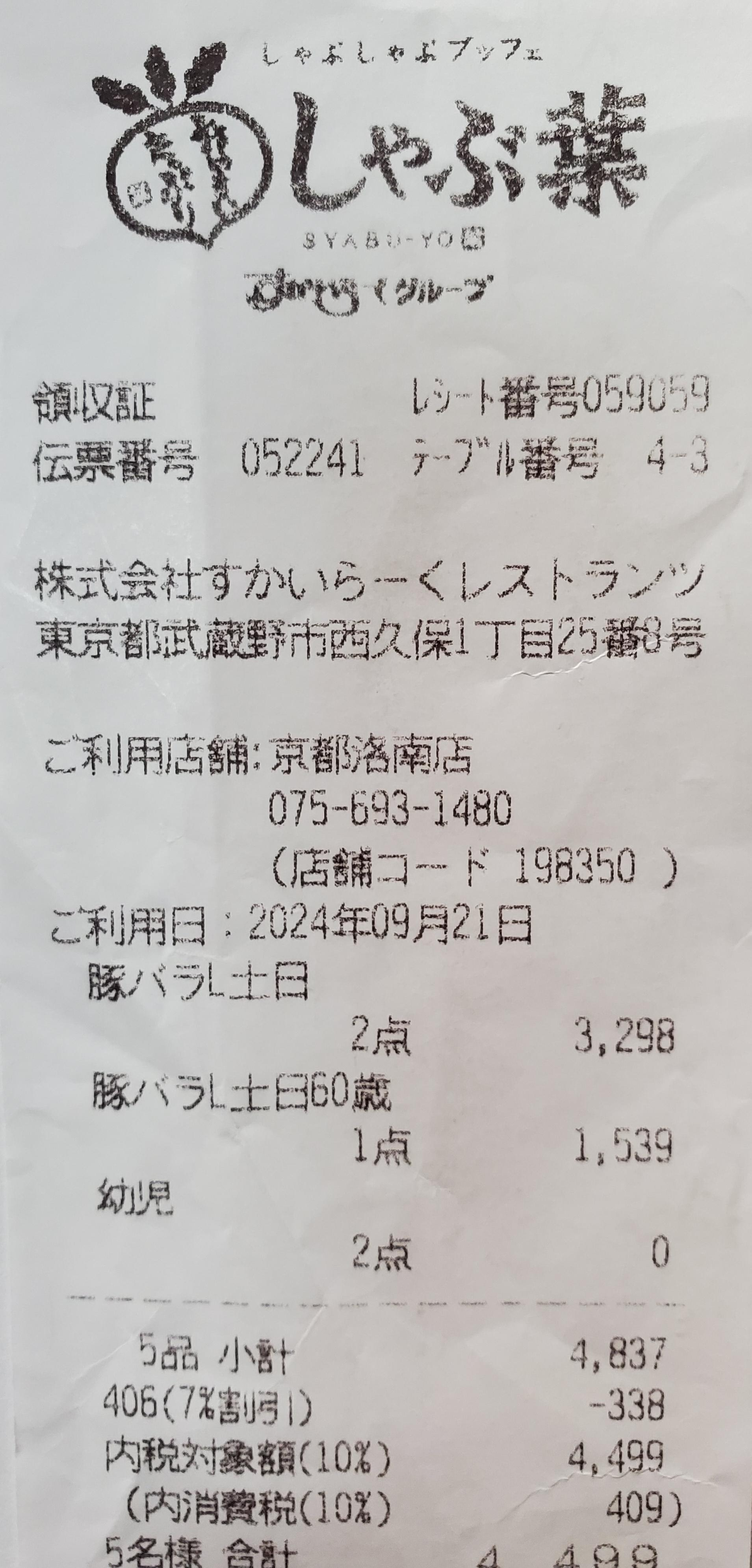TEL: (256, 782, 518, 830)
date: (236, 898, 536, 950)
total: (465, 1533, 675, 1568)
